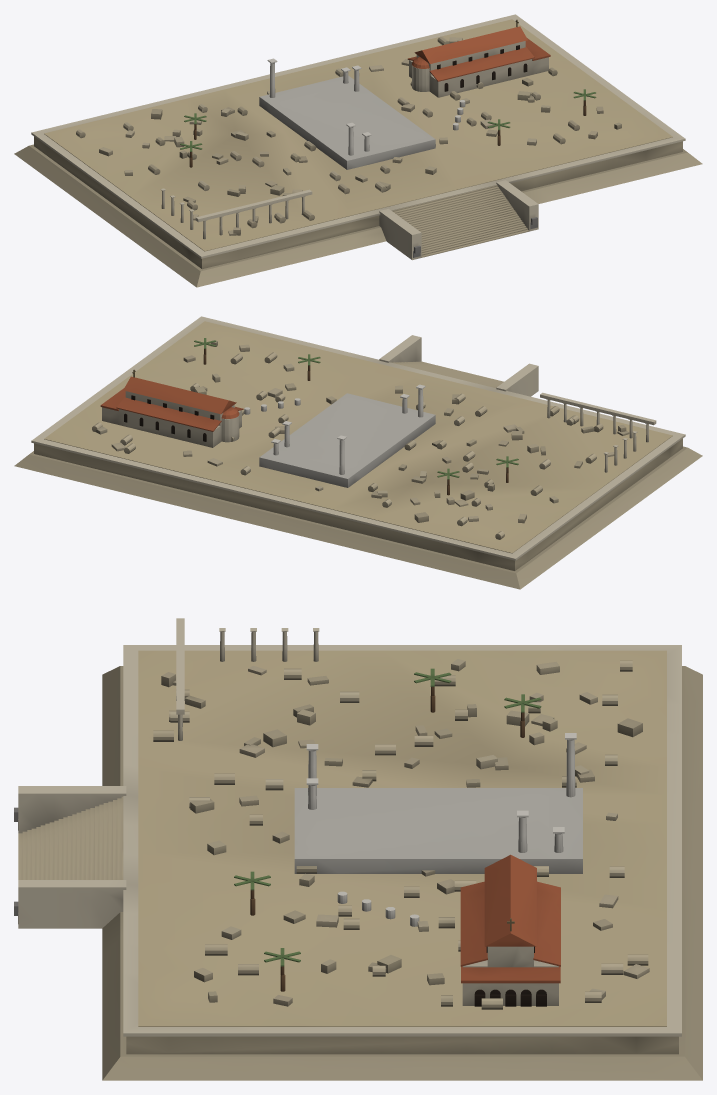
Rendered from serapeum-ruin.glb.
3 renders of one model, top to bottom at view 1: azimuth 30°, elevation 25°; view 2: azimuth 150°, elevation 25°; view 3: azimuth 270°, elevation 25°, orthographic. The views are drawn at different scales.
Parts seen in each view (by area): view 1: p1_ruins, p0_platform, p2_trees; view 2: p1_ruins, p0_platform, p2_trees; view 3: p1_ruins, p0_platform, p2_trees.
Part boxes in pixels (x1,y1,x2,y2): p1_ruins: [44, 19, 672, 251]; p0_platform: [14, 14, 702, 287]; p2_trees: [180, 19, 596, 157]; p1_ruins: [44, 321, 672, 553]; p0_platform: [14, 316, 702, 589]; p2_trees: [100, 338, 518, 485]; p1_ruins: [138, 618, 666, 1026]; p0_platform: [14, 645, 702, 1080]; p2_trees: [234, 668, 560, 1006].
Size of the model in its own units: 160 by 21.07 by 115.
